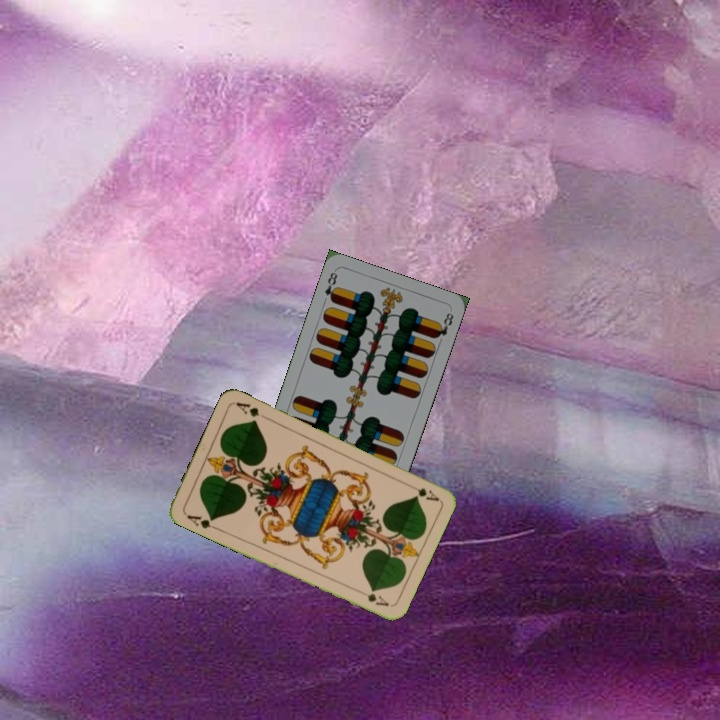E8: (320, 268, 341, 305)
GA: (403, 479, 441, 504), (181, 510, 220, 532)
